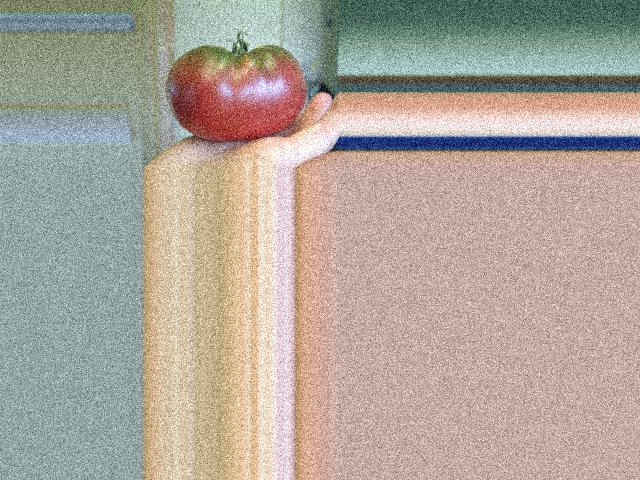tomato: (165, 44, 306, 141)
